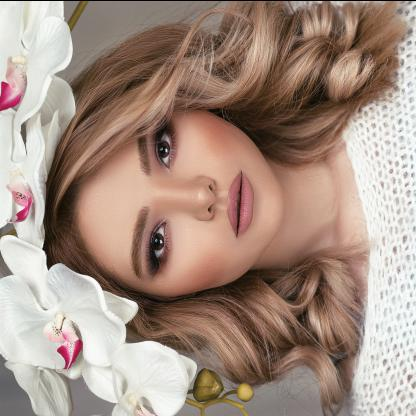Eye: (156, 113, 177, 173), (150, 217, 171, 273)
Mouth: (226, 168, 255, 239)
Nose: (168, 175, 217, 220)
